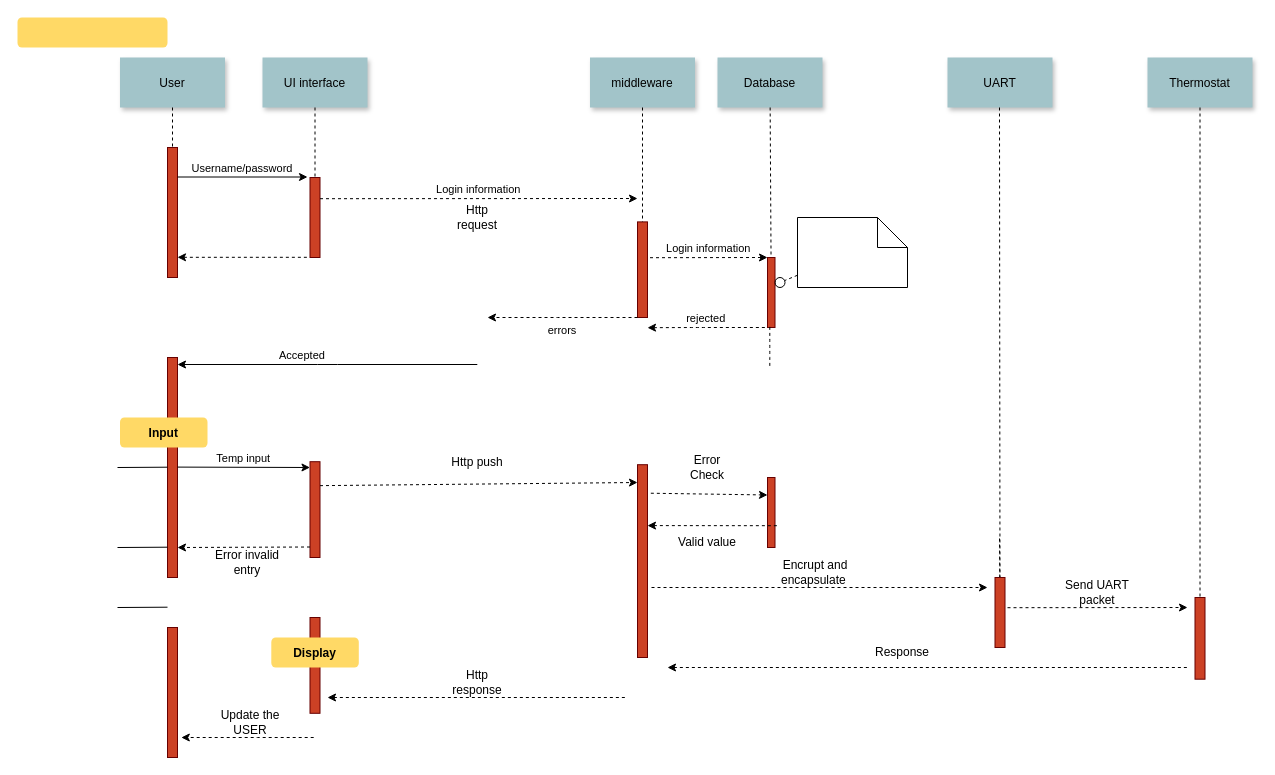
Image size: 1275x775. Some labels were removed from this diagram. The centre of each missing label's shape, as x and y in pixels:
- user validation - password check: point (852, 252)
Adjusting Temperature: point (92, 32)
